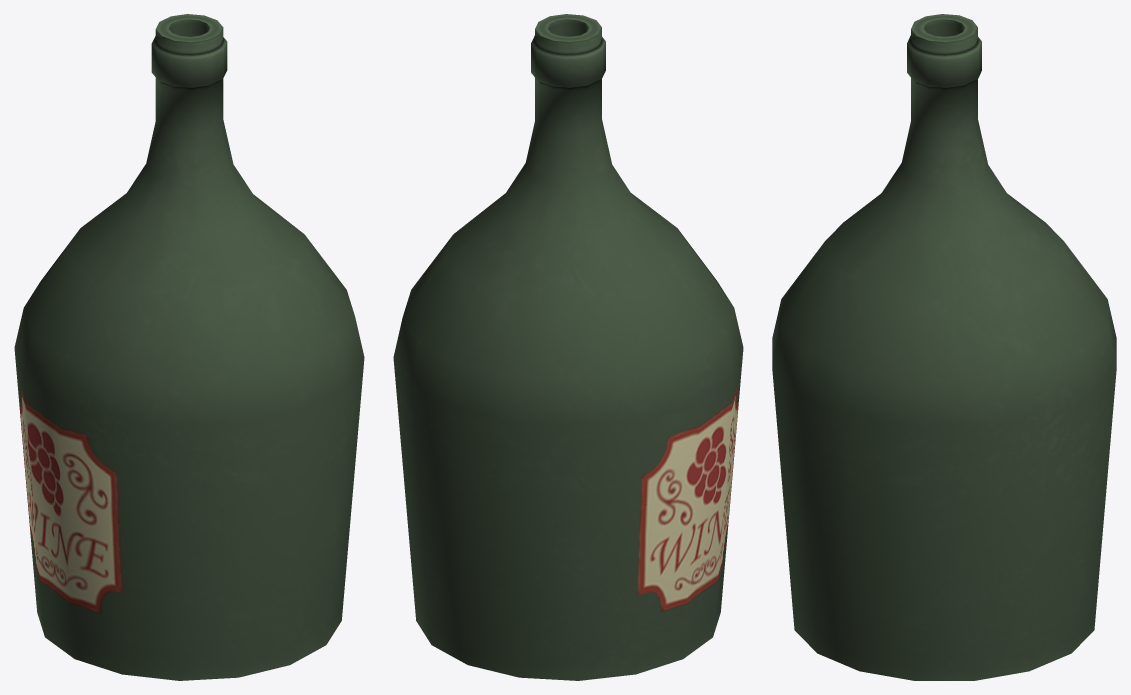
Rendered from LOD0_bigBottle_wLabel.fbx.
3 views of the same model, side by side, from view 1: azimuth 30°, elevation 25°; view 2: azimuth 150°, elevation 25°; view 3: azimuth 270°, elevation 25° (orthographic).
Visible parts, largest first — view 1: LOD0_bigBottle_wLabel; view 2: LOD0_bigBottle_wLabel; view 3: LOD0_bigBottle_wLabel.
Part boxes in pixels (x1,y1,x2,y2): LOD0_bigBottle_wLabel: (14, 14, 364, 680); LOD0_bigBottle_wLabel: (393, 14, 743, 680); LOD0_bigBottle_wLabel: (772, 14, 1116, 680).
Size of the model in its own units: 0.2132 by 0.4024 by 0.2132.
